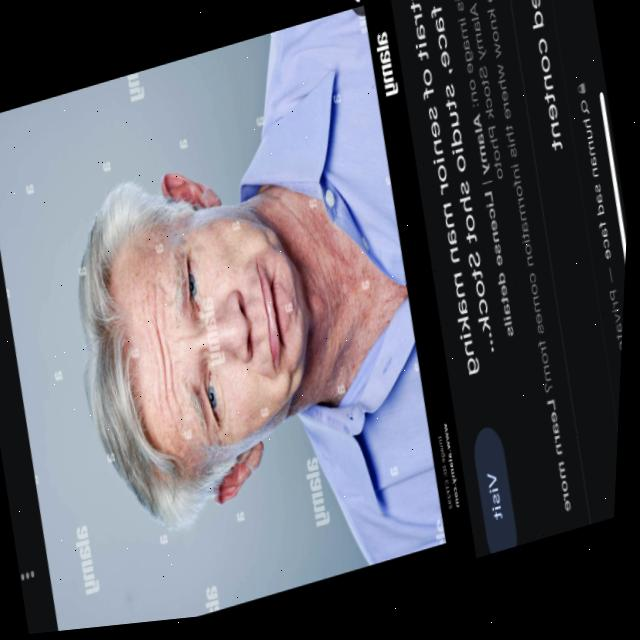sad: (94, 176, 334, 489)
